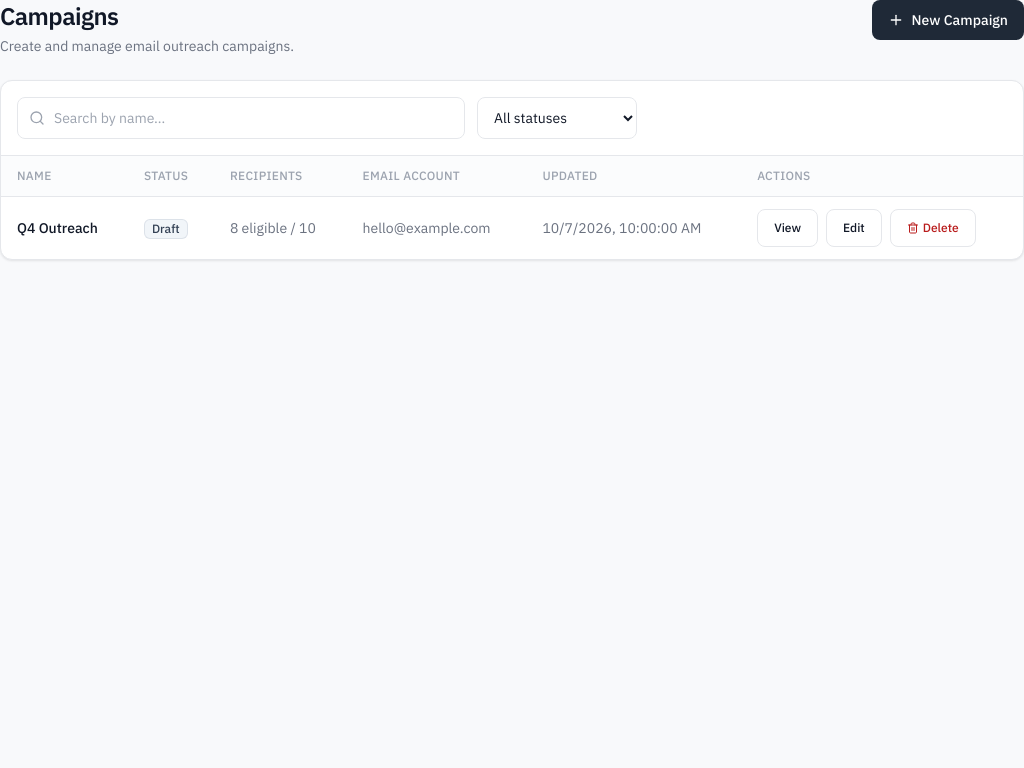
Scenario: CampaignListPage › opens delete confirmation for draft
This screenshot has width=1024, height=768.
Check: the link "Q4 Outreach" is shown, box [17,219,98,237]
Click the button "Delete" at (933, 228), box [890,209,976,247]
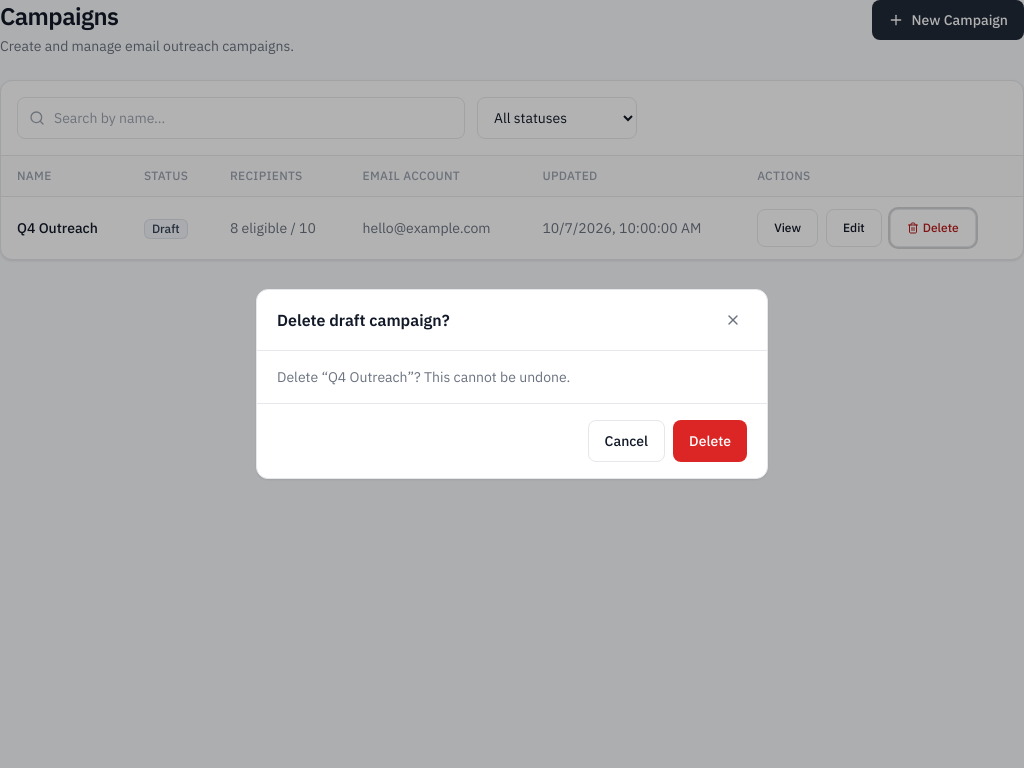
Check: the heading "Delete draft campaign?" is shown, box [277,308,450,332]
